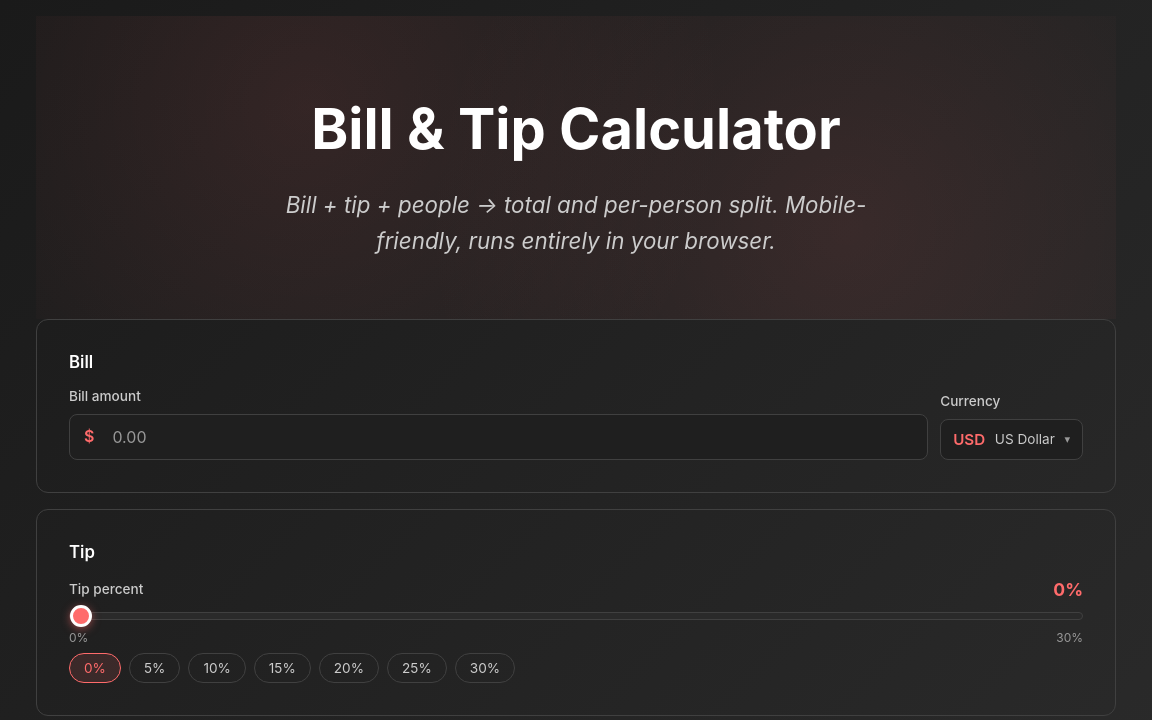
Scenario: <TipCalculator /> — page render › 5% and 10% presets are visible and selectable
The image size is (1152, 720).
Type "100" into the number field labelled "Bill amount" at (513, 437), box top-left (98, 415), bottom-right (927, 459)
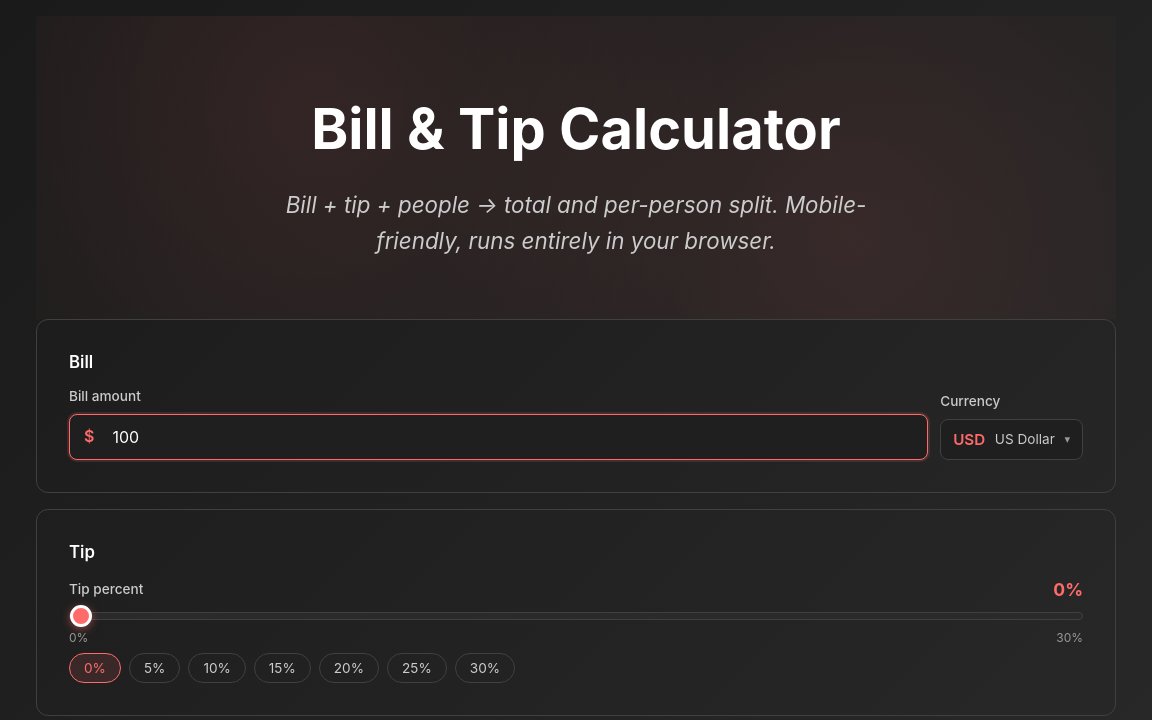
Expected: the button "5%" is shown, top-left (129, 653), bottom-right (180, 683)
Click the button "10%" at (217, 668), box top-left (188, 653), bottom-right (246, 683)
(page scrolled)
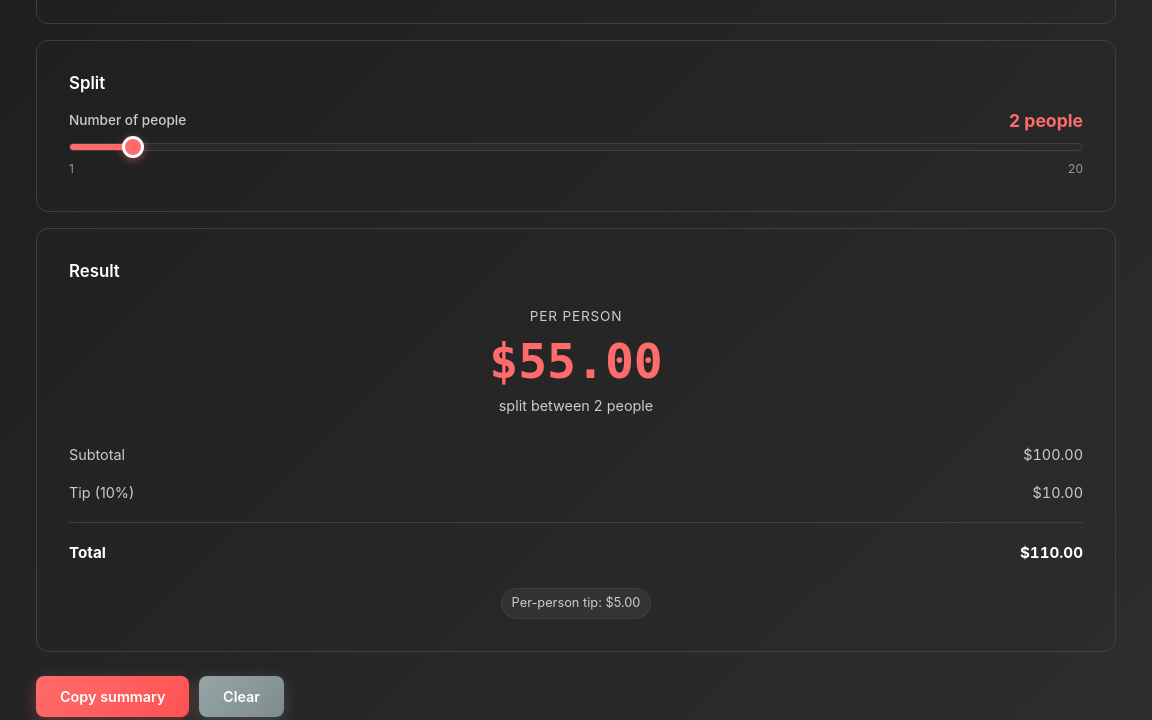
Expected: the text "$55.00" is shown, top-left (489, 332), bottom-right (663, 388)
